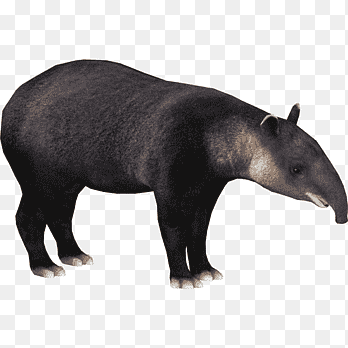Anta: (3, 59, 348, 295)
